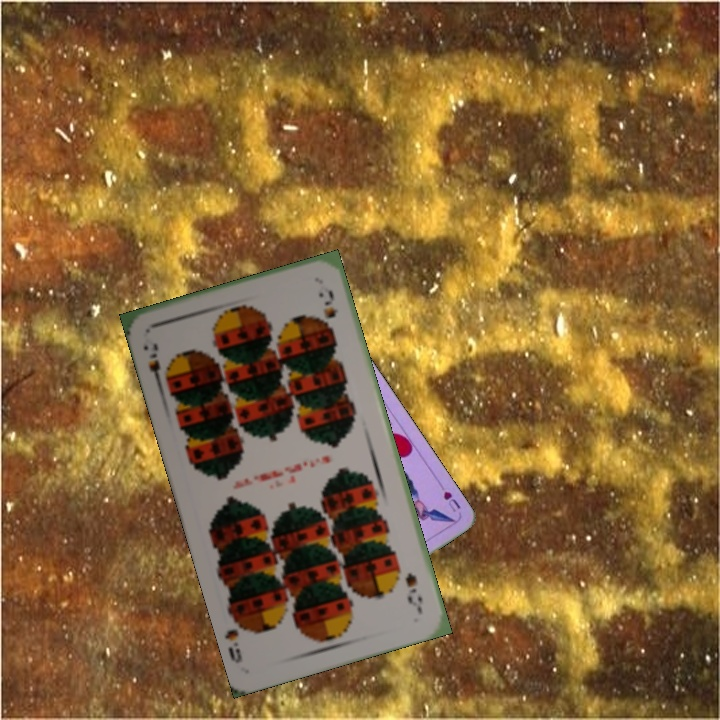HU: (439, 487, 463, 515)
S9: (145, 338, 173, 391), (401, 569, 426, 616)
